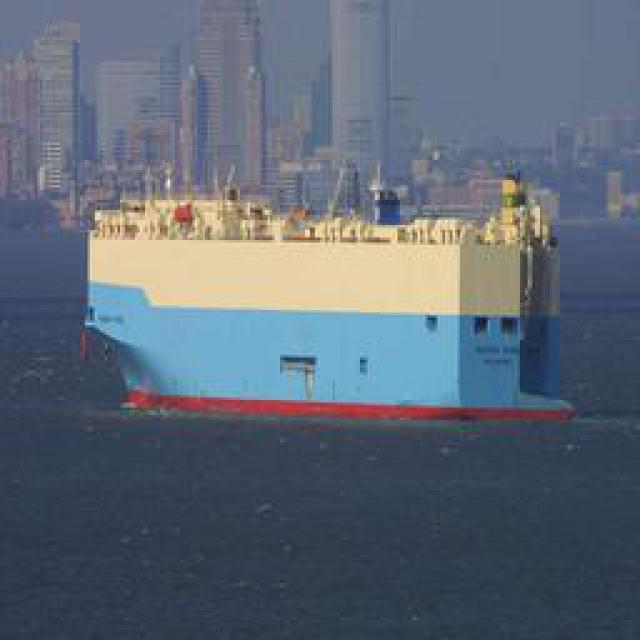Ship: (73, 161, 586, 428)
